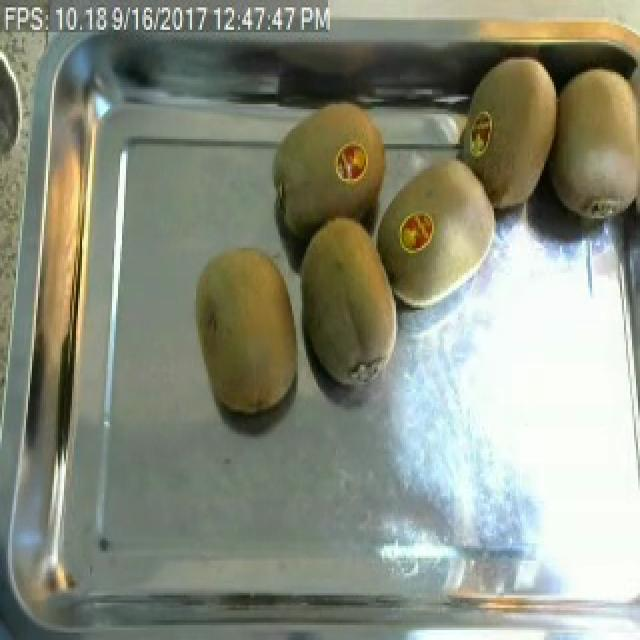Fruit: (184, 238, 310, 424), (286, 206, 408, 397), (450, 42, 572, 223), (390, 149, 508, 317), (538, 47, 640, 236)
